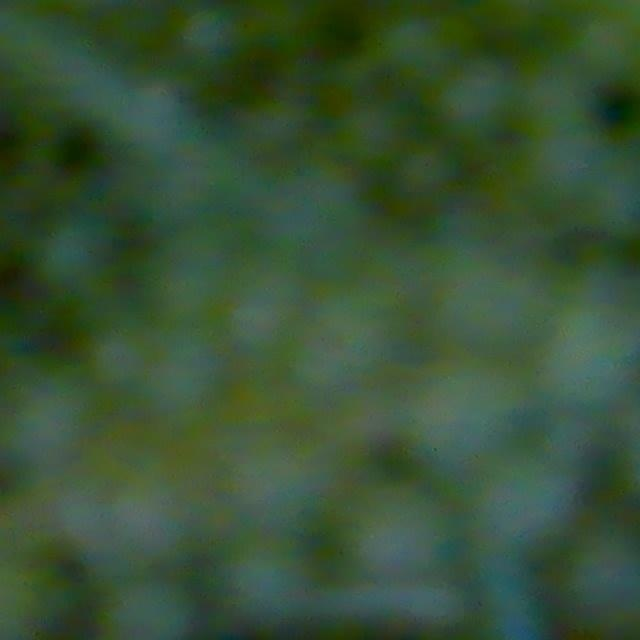SeaGrape: (395, 361, 519, 464), (343, 479, 452, 583), (243, 444, 367, 530), (212, 253, 313, 354), (481, 461, 584, 554), (219, 540, 326, 627), (0, 396, 105, 475), (304, 292, 394, 382), (562, 528, 640, 625), (436, 56, 519, 141), (374, 8, 464, 84), (33, 217, 114, 298), (102, 572, 198, 640), (563, 319, 640, 402), (175, 1, 250, 74), (337, 95, 410, 166)
